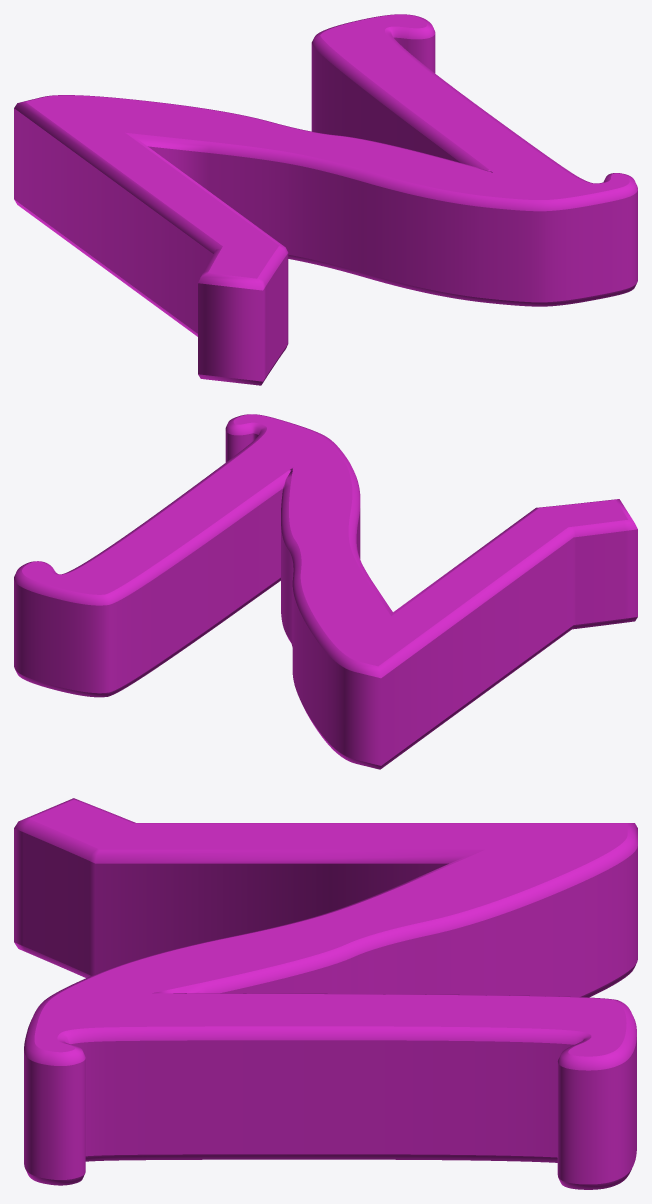
The model's file is Letter_N.fbx.
The picture shows the model from 3 angles, top to bottom: view 1: azimuth 30°, elevation 25°; view 2: azimuth 150°, elevation 25°; view 3: azimuth 270°, elevation 25°; orthographic projection. The views are drawn at different scales.
Parts seen in each view (by area): view 1: Letter_N; view 2: Letter_N; view 3: Letter_N.
Part boxes in pixels (x1,y1,x2,y2): Letter_N: (14,14,637,385); Letter_N: (14,414,637,769); Letter_N: (14,798,637,1189).
Bounding box in the file's own units: 0.604 × 0.14 × 0.5954.
